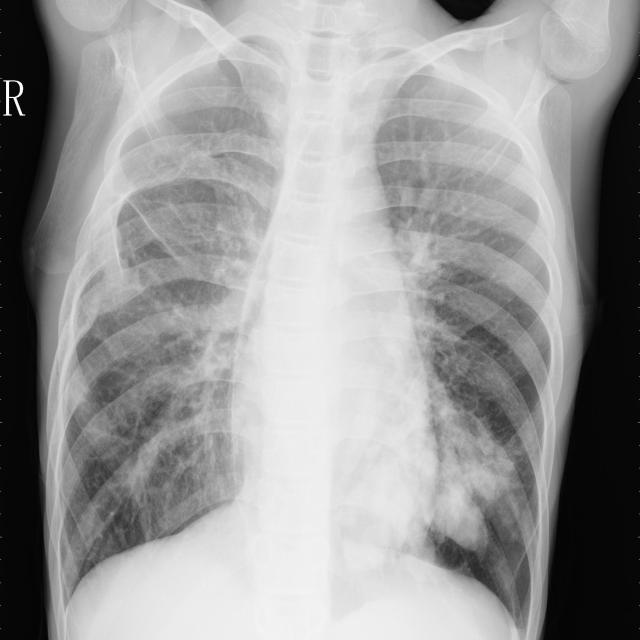low-pneumonia: (163, 219, 267, 470), (399, 171, 493, 361), (431, 386, 518, 556)
